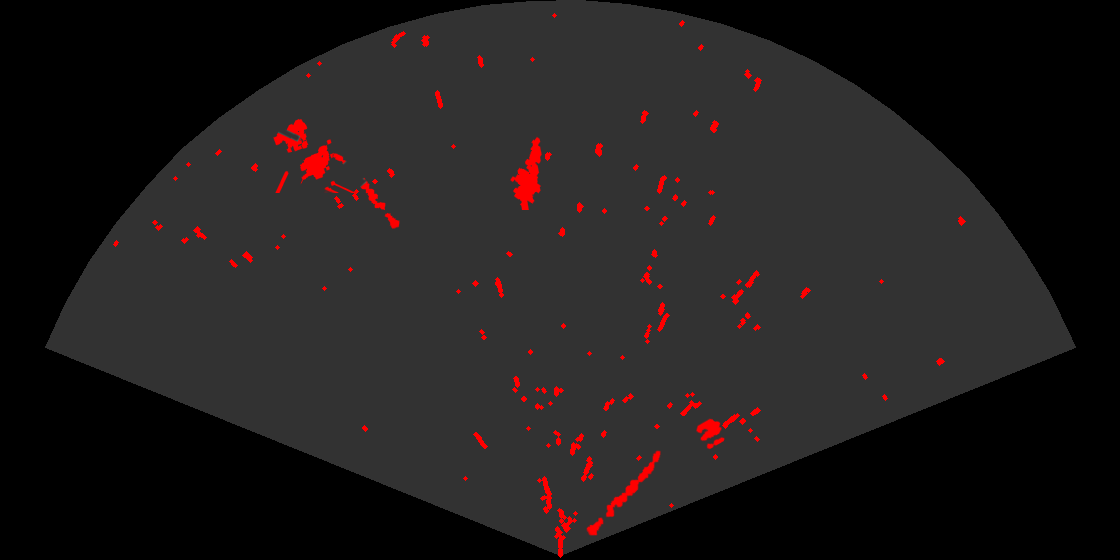ball: (695, 417, 726, 451)
cage: (272, 117, 356, 193)
chain: (585, 449, 662, 537), (332, 152, 401, 230)
frogman: (509, 135, 543, 210)
